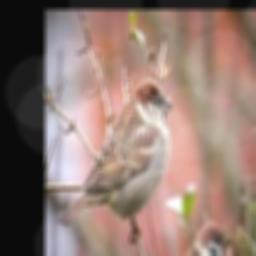Sparrow: (58, 79, 173, 241)
